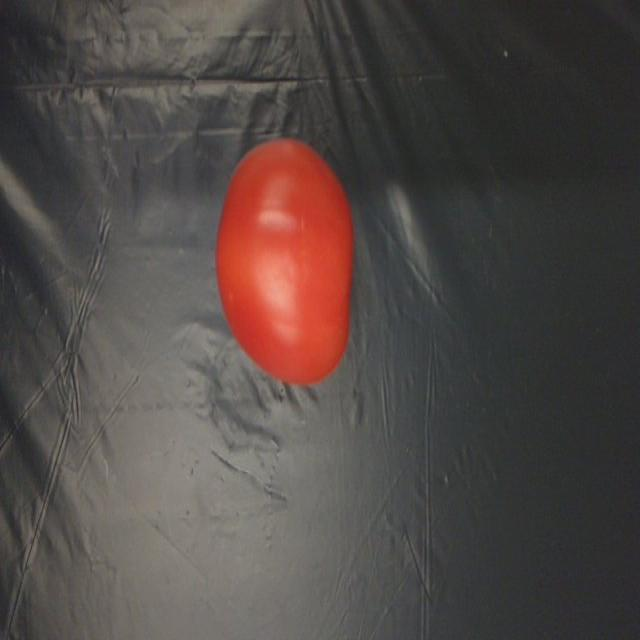kirmizi: (196, 135, 364, 385)
